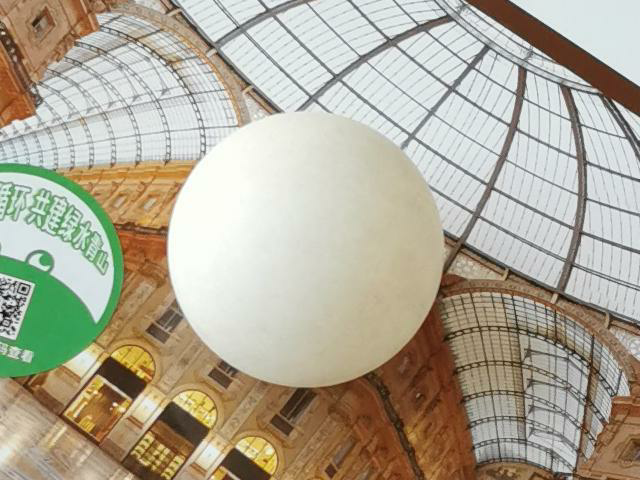ball: (167, 113, 446, 390)
